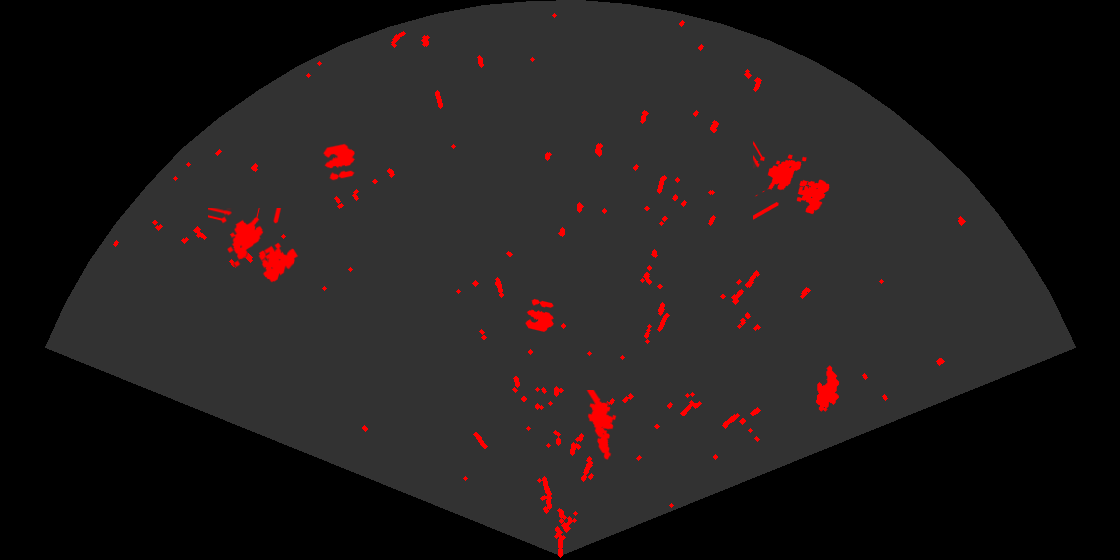AUV: (814, 364, 840, 413)
ball: (322, 142, 356, 182), (524, 297, 555, 334)
cage: (208, 208, 300, 284), (753, 140, 831, 221)
frogman: (585, 390, 618, 461)
